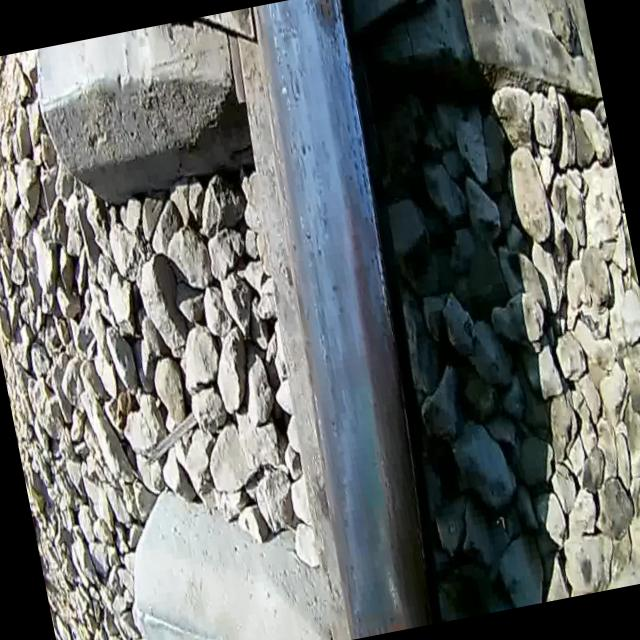Spallings: (313, 0, 337, 29)
Squats: (301, 0, 351, 65), (352, 609, 412, 639)
